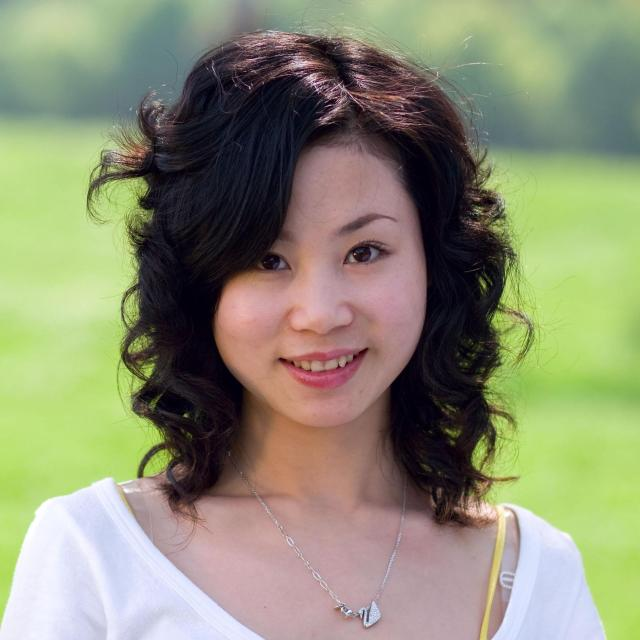no-glass: (237, 244, 391, 276)
